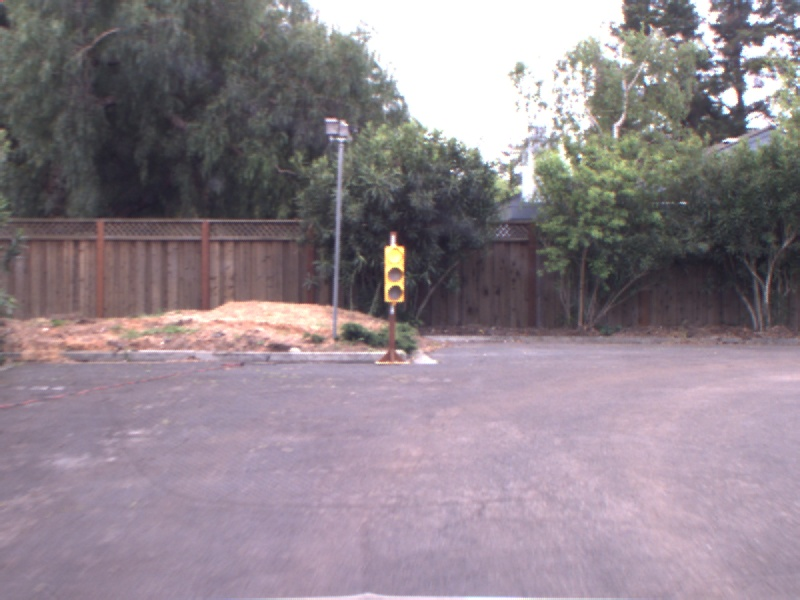red: (380, 242, 409, 306)
